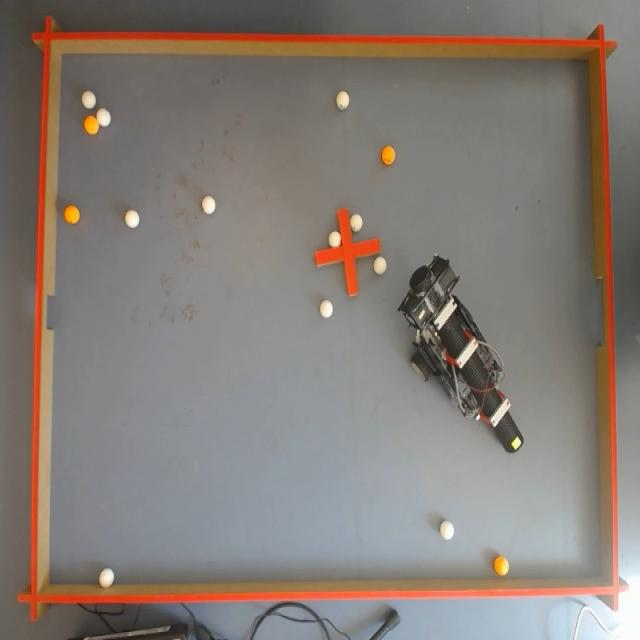orange: (494, 554, 511, 576), (84, 116, 100, 135), (64, 208, 79, 224), (384, 147, 398, 162)
robot: (404, 242, 513, 442)
white: (98, 567, 114, 588), (441, 519, 455, 539), (84, 89, 97, 110), (202, 195, 214, 216), (348, 214, 362, 232), (319, 299, 332, 318), (95, 108, 108, 127), (125, 211, 138, 230), (337, 89, 348, 111), (373, 256, 385, 276), (330, 230, 340, 248)
